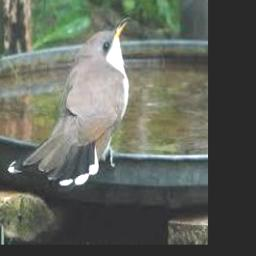Cuckoo: (8, 17, 133, 186)
